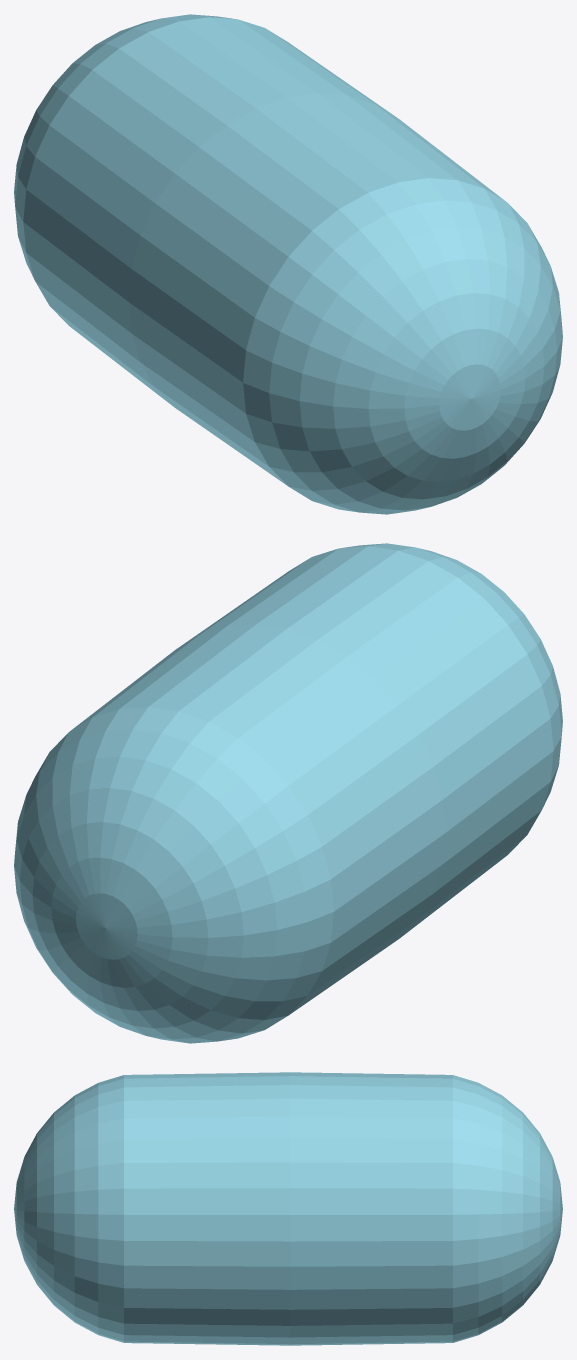
The model's file is Bala.obj.
3 views of the same model, one above another, from view 1: azimuth 30°, elevation 25°; view 2: azimuth 150°, elevation 25°; view 3: azimuth 270°, elevation 25° (orthographic). The views are drawn at different scales.
Parts seen in each view (by area): view 1: Bala_Sphere; view 2: Bala_Sphere; view 3: Bala_Sphere.
Boxes of the visible parts, x1,y1,x2,y2 form: Bala_Sphere: (14,14,562,514); Bala_Sphere: (14,543,562,1043); Bala_Sphere: (14,1072,562,1345).
Bounding box in the file's own units: 2 × 2 × 4.01.
Materials: 1 (1 with a texture image).
